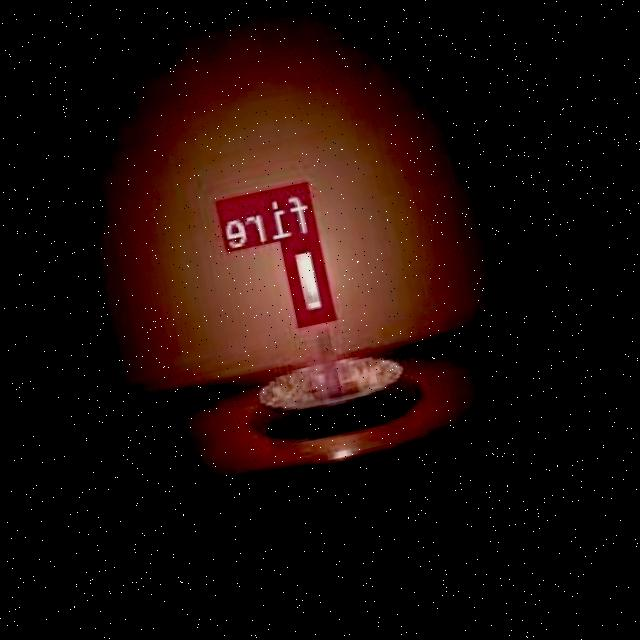fire: (282, 232, 337, 322)
